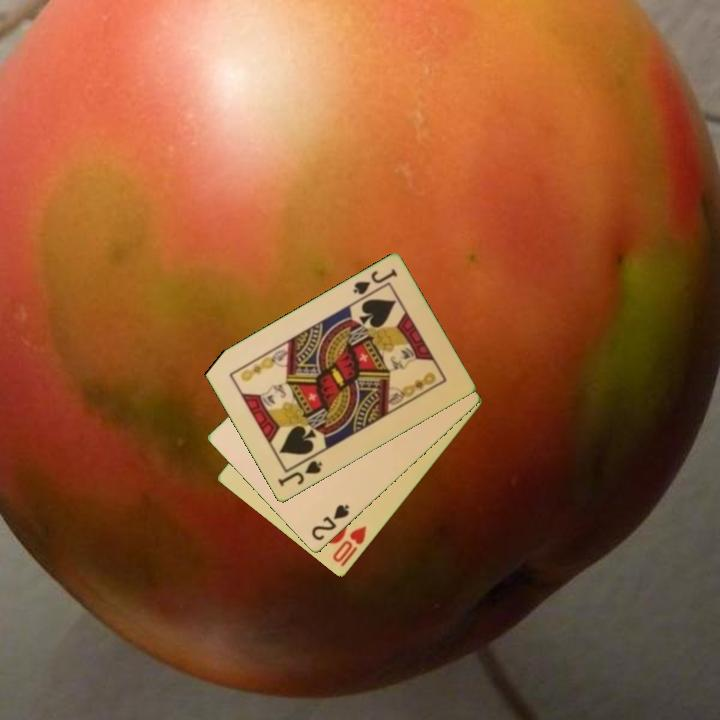10h: (329, 523, 370, 570)
2s: (308, 501, 352, 544)
Js: (274, 457, 326, 490), (349, 266, 400, 298)
